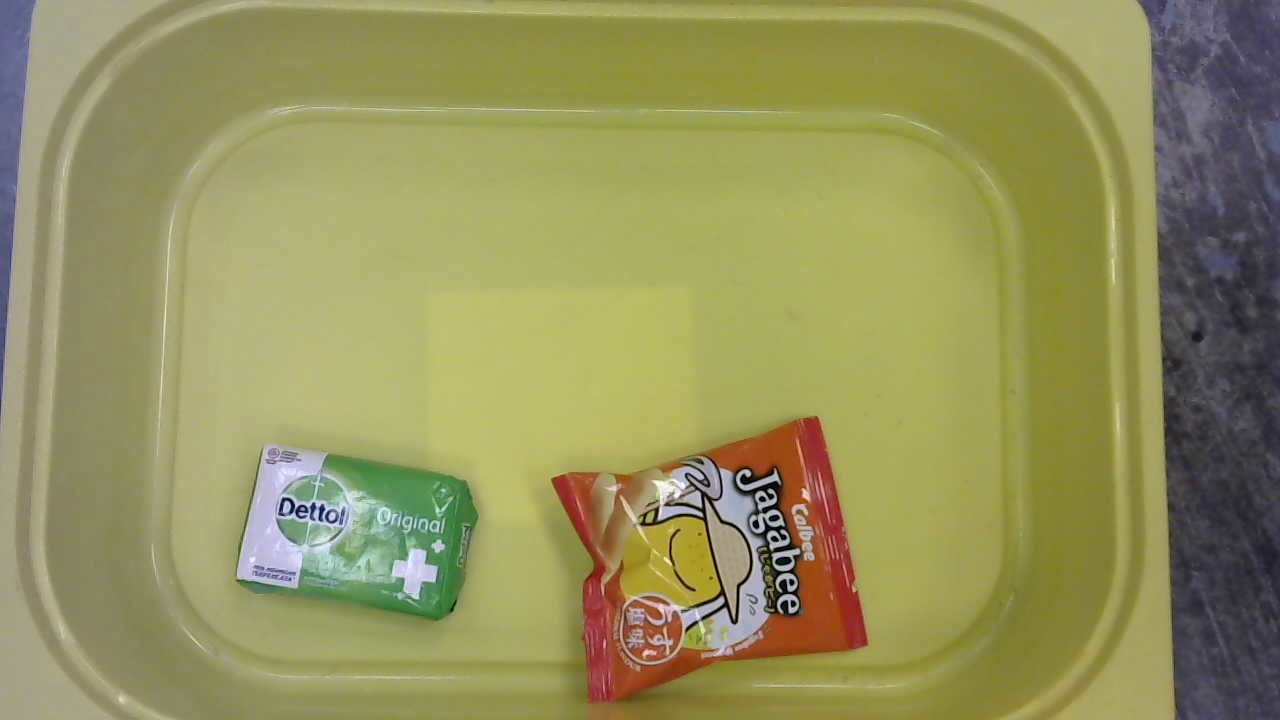Dettol: (231, 438, 481, 626)
JagabeeFarmer: (539, 415, 877, 709)
